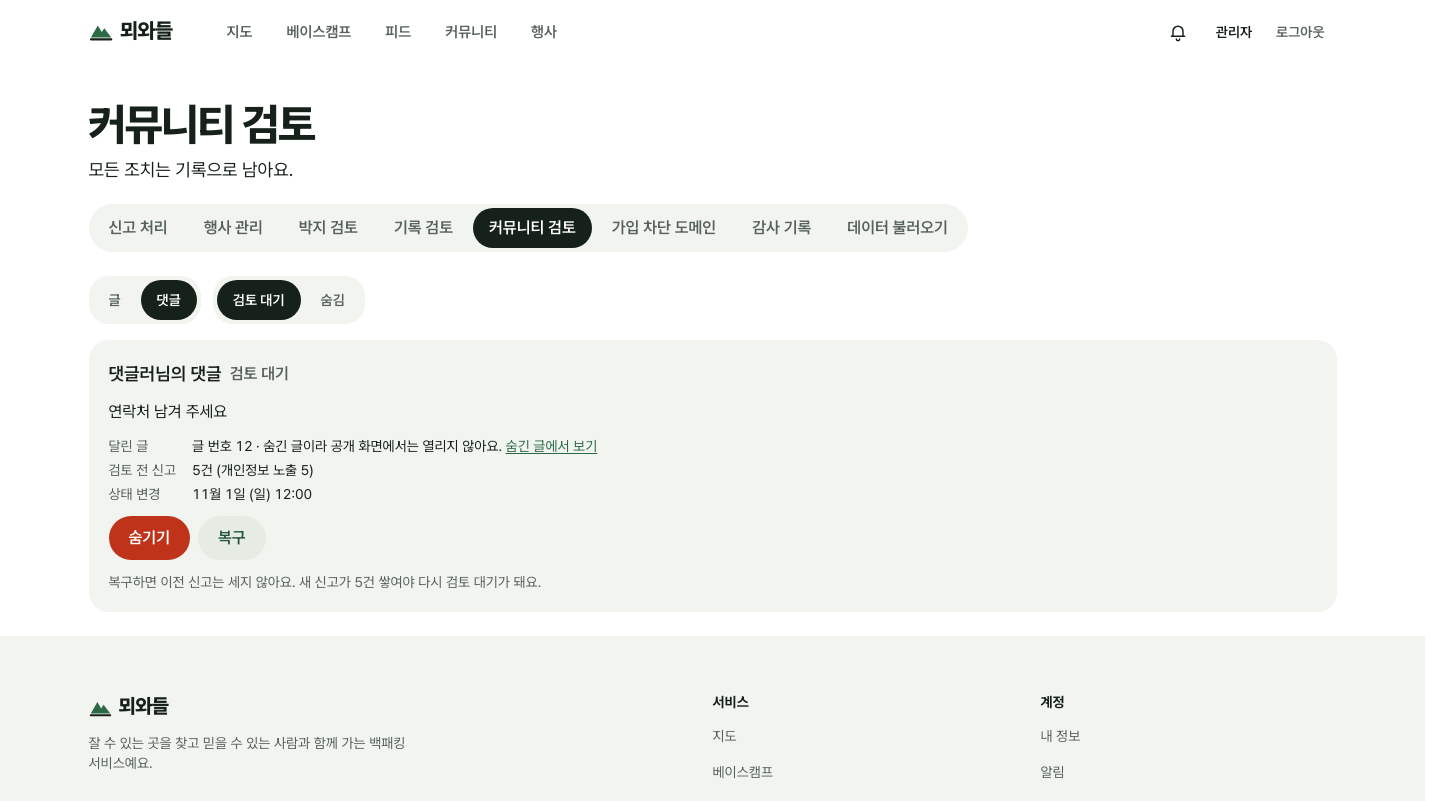
Test case: 관리자 커뮤니티 검토 › 댓글 카드의 숨긴 글에서 보기를 누르면 같은 화면에서 숨긴 글 목록으로 바뀐다
Step 1. Click the link "숨긴 글에서 보기" → (551, 446), box [506, 438, 597, 454]
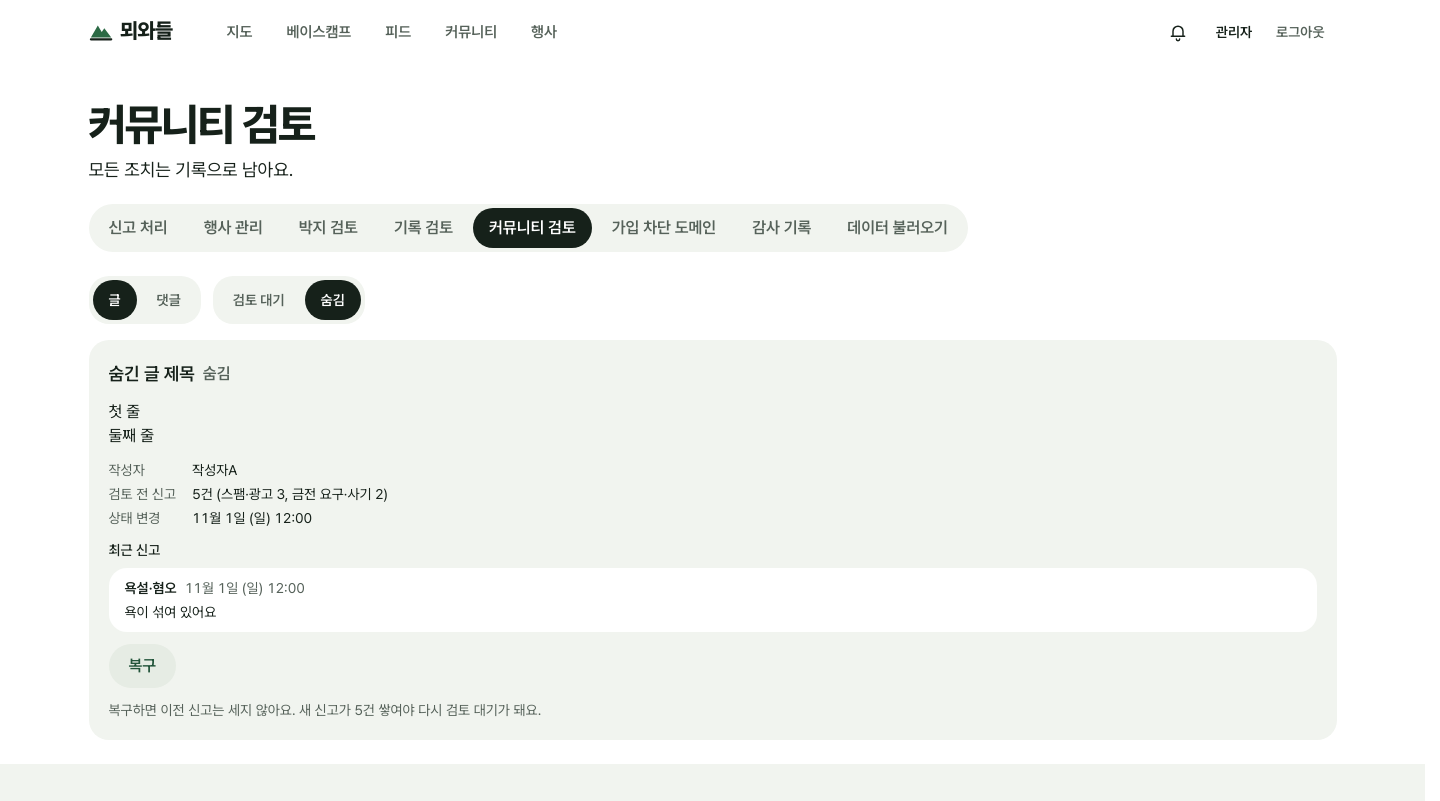
Check: the text "숨긴 글 제목" is shown, box [108, 360, 195, 388]
